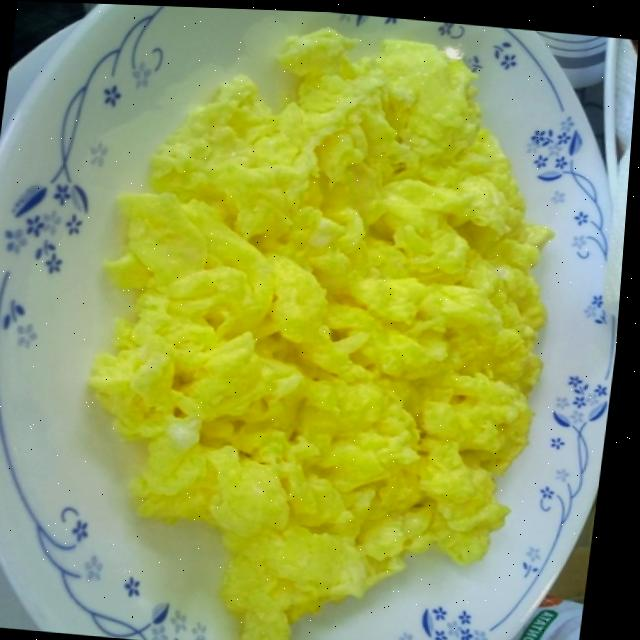鸡蛋料理: (0, 1, 633, 640)
